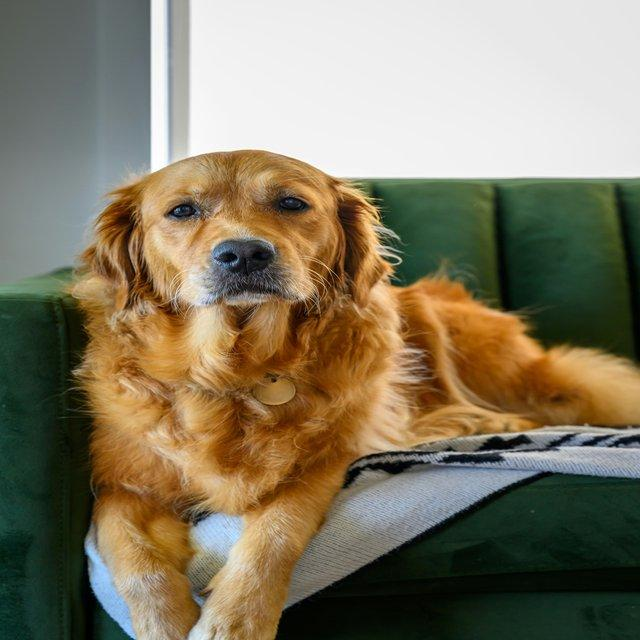retriever: (62, 147, 639, 639)
